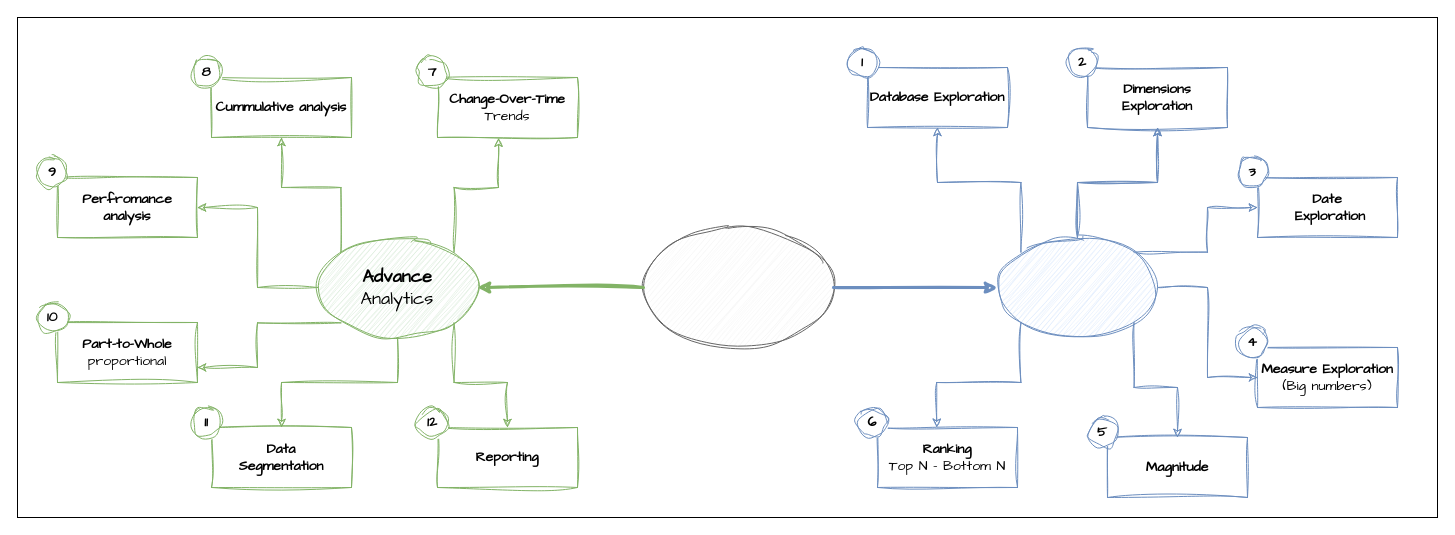
Image size: 1455x535. Some labels were removed from this diagram. Here are the shapes that lost their labels. From the top down, the box of each, then its label:
(642, 226, 834, 348): Data Analytics
(996, 236, 1158, 338): Exploratory Data Analysis (EDA)
